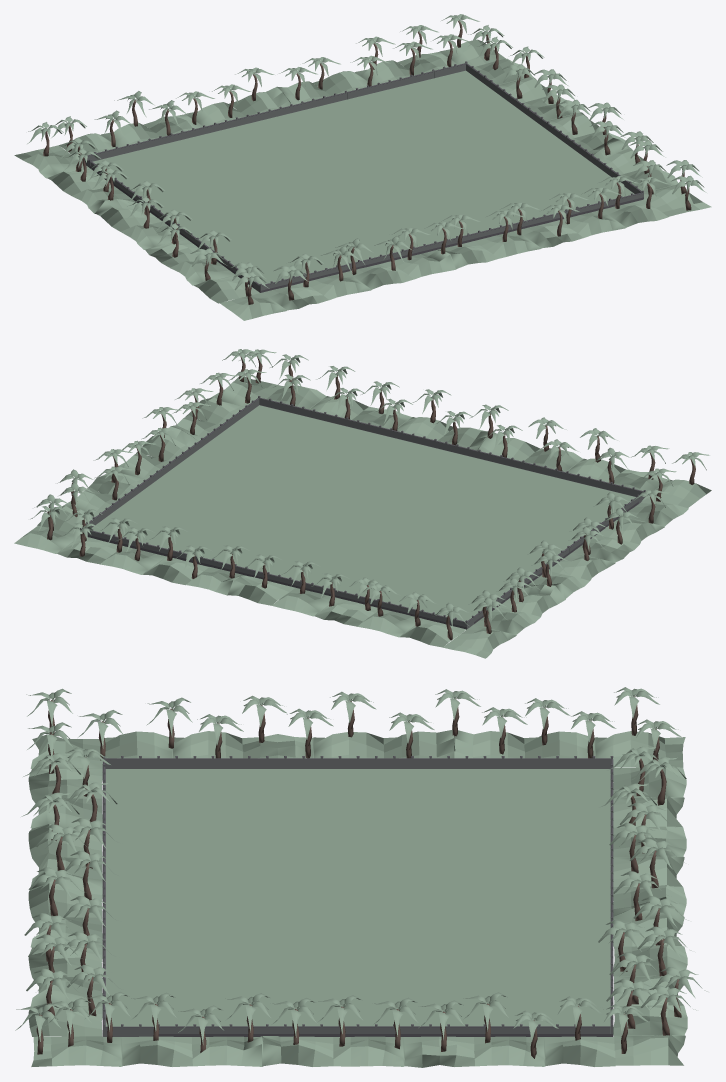
The model's file is GroundUUU.fbx.
3 views of the same model, one above another, from view 1: azimuth 30°, elevation 25°; view 2: azimuth 150°, elevation 25°; view 3: azimuth 270°, elevation 25° (orthographic). The views are drawn at different scales.
Visible parts, largest first — view 1: Debris; view 2: Debris; view 3: Debris.
Boxes of the visible parts, box(x1,y1,x2,y2) form: Debris: box(14, 14, 711, 320); Debris: box(14, 349, 711, 658); Debris: box(15, 687, 707, 1067).
Size of the model in its own units: 28861 by 2454 by 25125.
